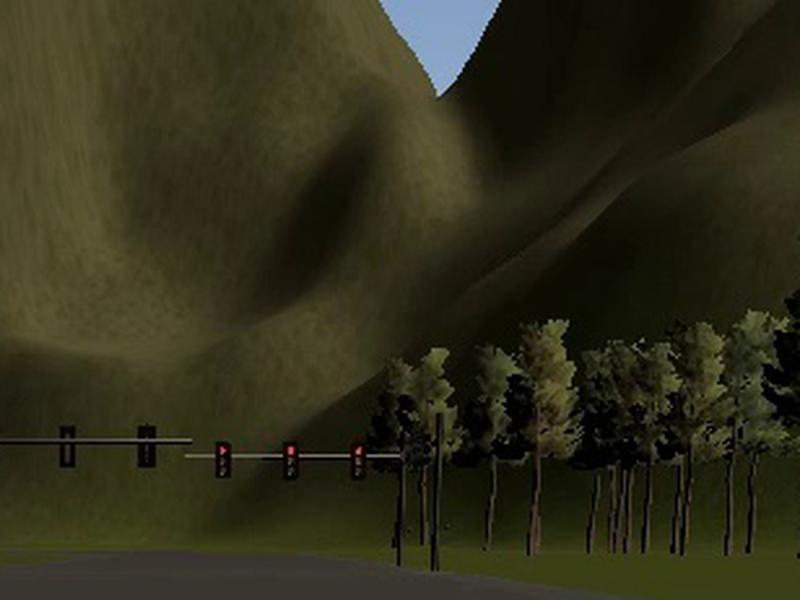Red: (279, 440, 301, 482), (214, 439, 231, 480), (349, 444, 366, 481)
